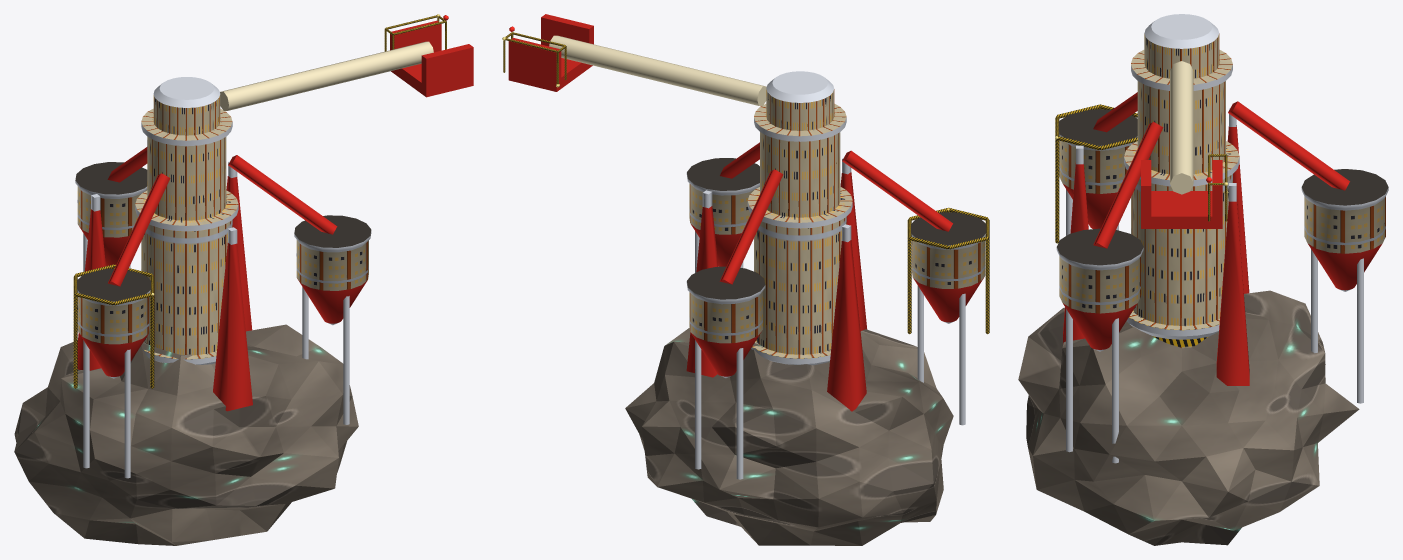
The model's file is mining_facility_build3.obj.
3 renders of one model, left to right at view 1: azimuth 30°, elevation 25°; view 2: azimuth 150°, elevation 25°; view 3: azimuth 270°, elevation 25°, orthographic. The views are drawn at different scales.
Visible parts, largest first — view 1: rock, tower, hopper, derrick, dock_arm, conveyor, leg, cradle_side, girder, cradle, post; view 2: rock, tower, hopper, derrick, dock_arm, conveyor, leg, cradle_side, girder, cradle, post; view 3: rock, tower, hopper, derrick, conveyor, leg, dock_arm, cradle, cradle_side, girder, post.
Part boxes in pixels (left/top/right/bottom): rock: left=14, top=324, right=358, bottom=545; tower: left=135, top=77, right=238, bottom=364; hopper: left=75, top=162, right=371, bottom=378; derrick: left=77, top=161, right=252, bottom=411; dock_arm: left=220, top=41, right=433, bottom=110; conveyor: left=107, top=147, right=337, bottom=286; leg: left=83, top=233, right=349, bottom=478; cradle_side: left=390, top=20, right=473, bottom=86; girder: left=73, top=15, right=446, bottom=305; cradle: left=391, top=63, right=473, bottom=97; post: left=73, top=267, right=154, bottom=388; rock: left=625, top=328, right=953, bottom=545; tower: left=747, top=71, right=852, bottom=365; hopper: left=686, top=158, right=986, bottom=377; derrick: left=686, top=157, right=867, bottom=411; dock_arm: left=549, top=35, right=766, bottom=105; conveyor: left=719, top=142, right=952, bottom=284; leg: left=695, top=231, right=965, bottom=479; cradle_side: left=508, top=14, right=593, bottom=80; girder: left=503, top=32, right=989, bottom=249; cradle: left=508, top=58, right=592, bottom=91; post: left=907, top=210, right=989, bottom=334; rock: left=1018, top=290, right=1359, bottom=545; tower: left=1124, top=14, right=1239, bottom=348; hopper: left=1056, top=109, right=1388, bottom=351; derrick: left=1063, top=108, right=1249, bottom=385; conveyor: left=1093, top=92, right=1349, bottom=248; leg: left=1066, top=189, right=1363, bottom=463; dock_arm: left=1170, top=61, right=1193, bottom=194; cradle: left=1141, top=191, right=1222, bottom=228; cradle_side: left=1141, top=160, right=1222, bottom=216; girder: left=1055, top=104, right=1227, bottom=221; post: left=1055, top=107, right=1101, bottom=243.
Size of the model in its own units: 161 by 160 by 109.
Materials: 9 (3 with a texture image).
